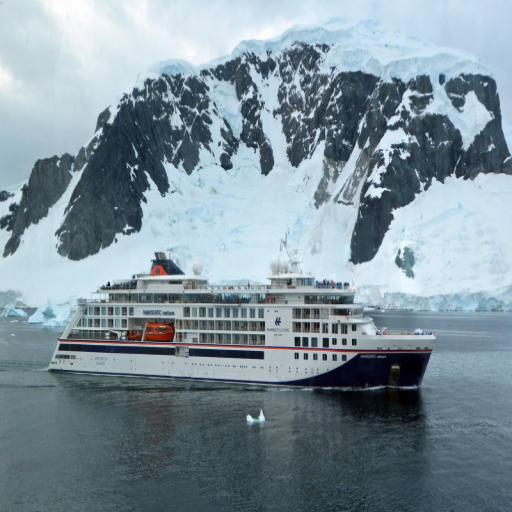cruises: (41, 249, 438, 397)
